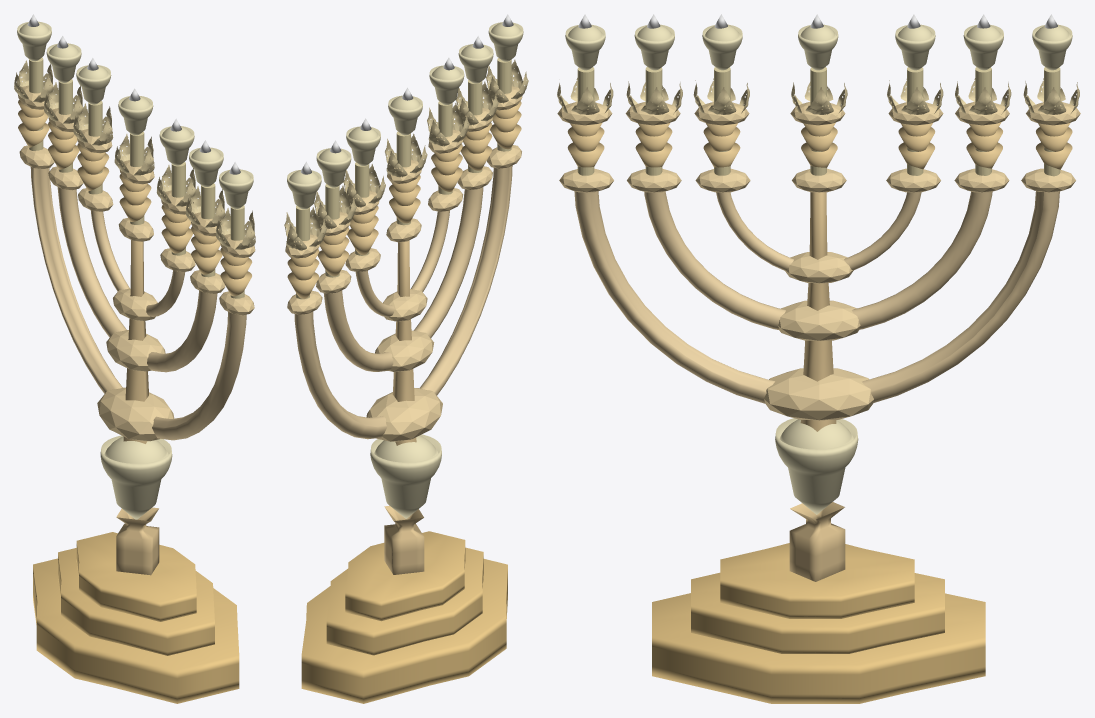
The model's file is Candelabro.glb.
The picture shows the model from 3 angles, left to right: view 1: azimuth 30°, elevation 25°; view 2: azimuth 150°, elevation 25°; view 3: azimuth 270°, elevation 25°; orthographic projection. The views are drawn at different scales.
Parts seen in each view (by area): view 1: BASE, ALMENDRONES 2, TOPES, FLORES ARRIBA, PETALOS, BRAZO.004, MASTIL, FLOR GRANDE, CILINDROS, BRAZO.003, BRAZO.002, ALMENDRON (+2 smaller); view 2: BASE, ALMENDRONES 2, TOPES, FLORES ARRIBA, PETALOS, BRAZO.003, MASTIL, FLOR GRANDE, CILINDROS, BRAZO.004, BRAZO.001, ALMENDRON (+2 smaller); view 3: BASE, ALMENDRONES 2, FLORES ARRIBA, TOPES, BRAZO.003, BRAZO.004, MASTIL, PETALOS, FLOR GRANDE, ALMENDRON, CILINDROS, BRAZO.001 (+2 smaller).
Boxes of the visible parts, x1=… form: BASE: x1=33, y1=532, x2=239, y2=703; ALMENDRONES 2: x1=19, y1=145, x2=254, y2=441; TOPES: x1=18, y1=100, x2=252, y2=296; FLORES ARRIBA: x1=17, y1=21, x2=253, y2=208; PETALOS: x1=14, y1=60, x2=255, y2=249; BRAZO.004: x1=30, y1=167, x2=122, y2=393; MASTIL: x1=116, y1=240, x2=159, y2=575; FLOR GRANDE: x1=100, y1=435, x2=172, y2=519; CILINDROS: x1=29, y1=57, x2=244, y2=298; BRAZO.003: x1=152, y1=312, x2=246, y2=440; BRAZO.002: x1=57, y1=187, x2=126, y2=337; ALMENDRON: x1=18, y1=85, x2=255, y2=257; BASE: x1=301, y1=531, x2=507, y2=703; ALMENDRONES 2: x1=287, y1=145, x2=521, y2=441; TOPES: x1=287, y1=101, x2=521, y2=298; FLORES ARRIBA: x1=287, y1=22, x2=523, y2=209; PETALOS: x1=284, y1=59, x2=528, y2=250; BRAZO.003: x1=419, y1=165, x2=512, y2=395; MASTIL: x1=384, y1=240, x2=424, y2=574; FLOR GRANDE: x1=370, y1=434, x2=441, y2=518; CILINDROS: x1=296, y1=58, x2=511, y2=299; BRAZO.004: x1=294, y1=311, x2=387, y2=439; BRAZO.001: x1=414, y1=187, x2=483, y2=337; ALMENDRON: x1=285, y1=86, x2=522, y2=258; BASE: x1=652, y1=543, x2=985, y2=703; ALMENDRONES 2: x1=559, y1=168, x2=1075, y2=420; FLORES ARRIBA: x1=565, y1=24, x2=1072, y2=70; TOPES: x1=567, y1=122, x2=1072, y2=169; BRAZO.003: x1=574, y1=191, x2=774, y2=403; BRAZO.004: x1=862, y1=191, x2=1059, y2=402; MASTIL: x1=789, y1=192, x2=845, y2=581; PETALOS: x1=557, y1=78, x2=1079, y2=114; FLOR GRANDE: x1=775, y1=418, x2=858, y2=514; ALMENDRON: x1=557, y1=102, x2=1080, y2=125; CILINDROS: x1=577, y1=67, x2=1060, y2=176; BRAZO.001: x1=644, y1=191, x2=785, y2=329.
Bounding box in the file's own units: 2.61 × 8.56 × 6.32.
